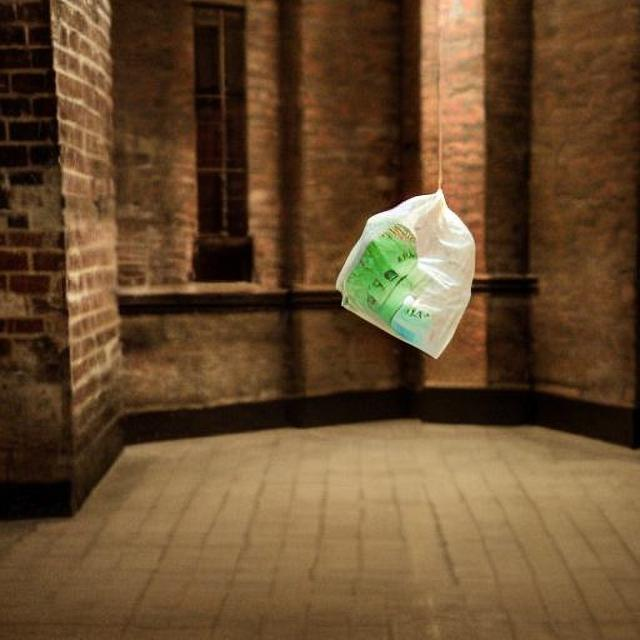plastic bag: (336, 185, 475, 353)
